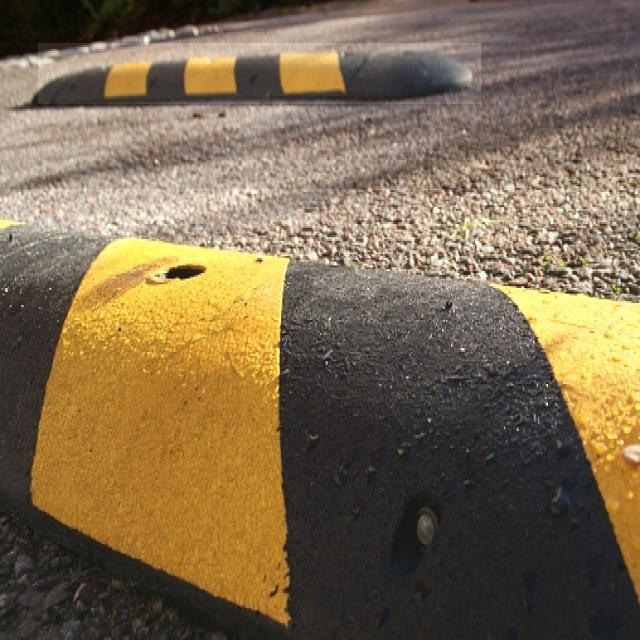speed-bump: (0, 189, 640, 640), (38, 43, 481, 104)
